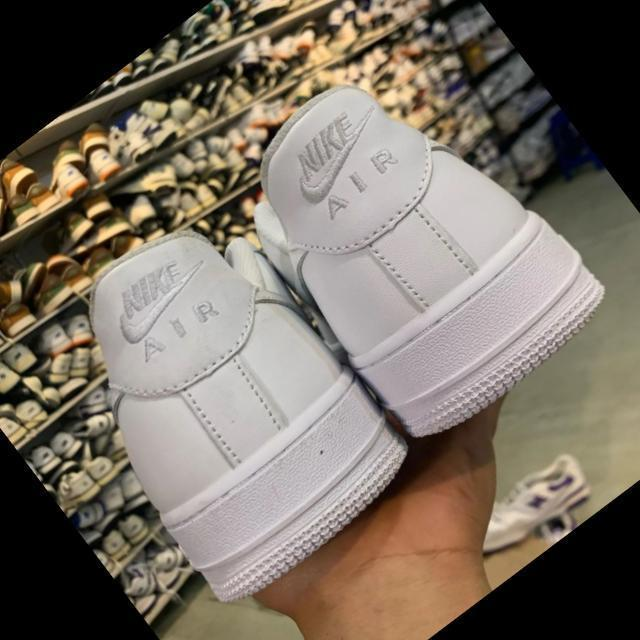nike fake air force: (201, 19, 620, 458), (9, 182, 426, 618)
